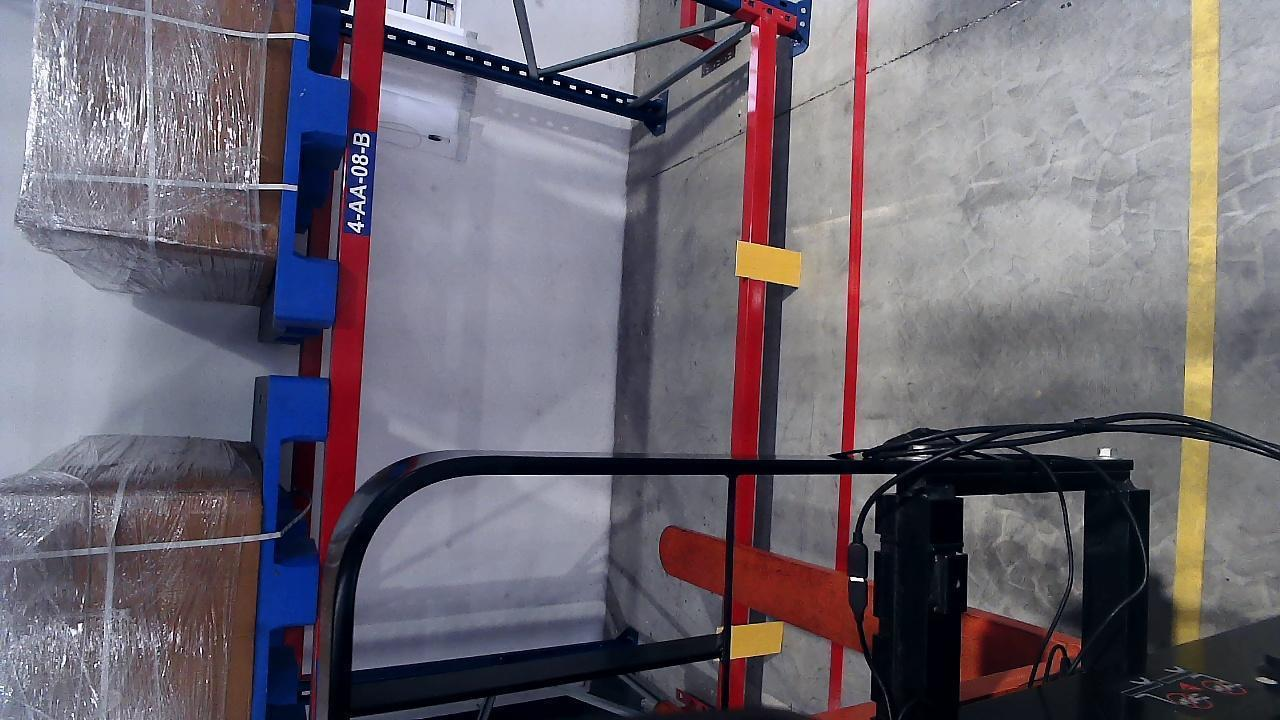red_line: (822, 0, 870, 708)
yellow_line: (1170, 2, 1222, 639)
